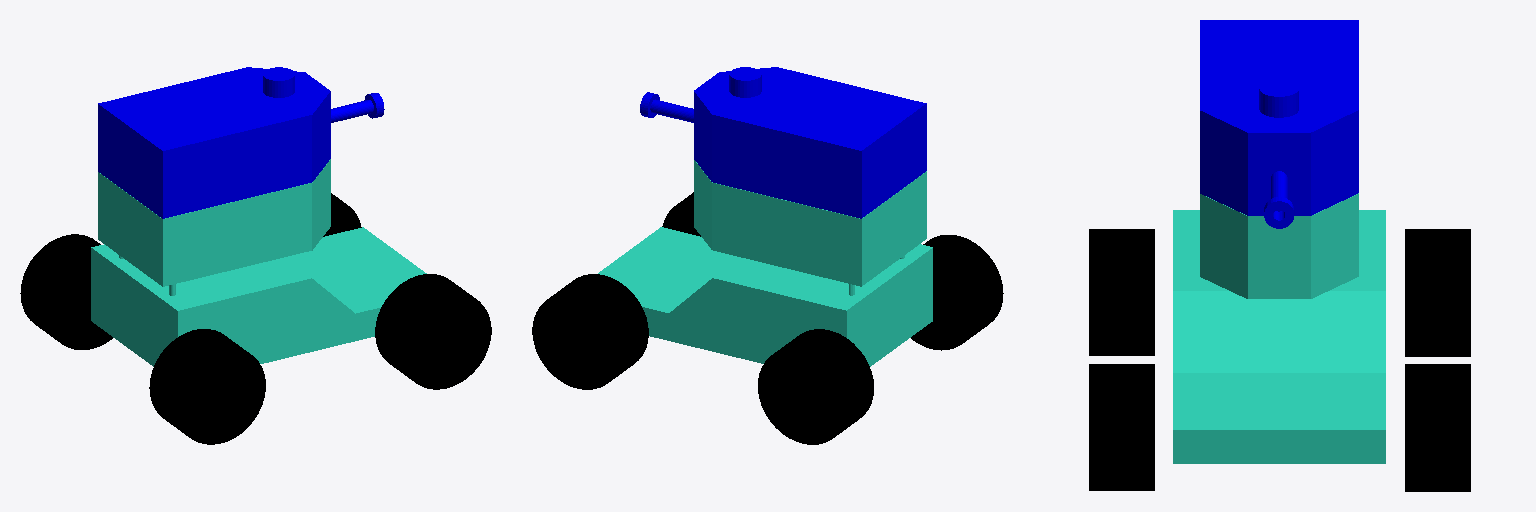
robot.urdf — abot_model:
<?xml version="1.0" encoding="utf-8"?>
<robot
  name="abot_model">
<!--*****************base_link************************-->
  <link
    name="base_link">
    <inertial>
      <origin
        xyz="0.0037371271395169 0.000509597410569076 0.0628578663830573"
        rpy="0 0 0" />
      <mass
        value="0.734774769093734" />
      <inertia
        ixx="0.00304079703267396"
        ixy="6.73701058783062E-08"
        ixz="-6.50029706905171E-08"
        iyy="0.0044781909611876"
        iyz="-1.06452904751068E-07"
        izz="0.00669492338035859" />
    </inertial>
    <visual>
      <origin
        xyz="0 0 0"
        rpy="0 0 0" />
      <geometry>
        <mesh
          filename="package://abot_model/meshes/base_link.STL" />
      </geometry>
      <material
        name="">
        <color
           rgba=" 0.22352 0.89019 0.77647 1" />
      </material>
    </visual>
    <collision>
      <origin
        xyz="0 0 0"
        rpy="0 0 0" />
      <geometry>
        <mesh
          filename="package://abot_model/meshes/base_link.STL" />
      </geometry>
    </collision>
  </link>

<gazebo reference="base_link">
    <material>Gazebo/Blue</material>
</gazebo>
<!--***************link_left_w**************************-->
  <link
    name="link_left_w">
    <inertial>
      <origin
        xyz="-2.9684E-05 0.011721 -0.000134"
        rpy="0 0 0" />
      <mass
        value="0.17861" />
      <inertia
        ixx="0.00013111"
        ixy="1.88E-20"
        ixz="-2.588E-10"
        iyy="0.00019458"
        iyz="7.7371E-21"
        izz="0.00013112" />
    </inertial>
    <visual>
      <origin
        xyz="0 0 0"
        rpy="0 0 0" />
      <geometry>
        <mesh
          filename="package://abot_model/meshes/link_left_w.STL" />
      </geometry>
      <material
        name="">
        <color rgba="0 0 0 0.95"/>
      </material>
    </visual>
    <collision>
      <origin
        xyz="0 0 0"
        rpy="0 0 0" />
      <geometry>
        <mesh
          filename="package://abot_model/meshes/link_left_w.STL" />
      </geometry>
    </collision>
  </link>
<gazebo reference="link_left_w">
    <material>Gazebo/Grey</material>
</gazebo>
<!--***************joint_left_w*************************-->
  <joint
    name="joint_left_w"
    type="continuous">
    <origin
      xyz="0.12024 0.10802 0.028264"
      rpy="0 0 0" />
    <parent
      link="base_link" />
    <child
      link="link_left_w" />
    <axis
      xyz="0 1 0" />
    <limit
      lower="-3.14"
      upper="3.14"
      effort="100"
      velocity="0" />
    <safety_controller
      k_velocity="0" />
  </joint>
<!--*****************link_left_s************************-->
  <link
    name="link_left_s">
    <inertial>
      <origin
        xyz="0.00125052664950205 0.00847211983876833 -0.000229470863907809"
        rpy="0 0 0" />
      <mass
        value="0.178614693254775" />
      <inertia
        ixx="0.00013111186774341"
        ixy="2.1852675113639E-21"
        ixz="-2.58804125525198E-10"
        iyy="0.000194584383981263"
        iyz="7.23887751890145E-21"
        izz="0.000131123764185488" />
    </inertial>
    <visual>
      <origin
        xyz="0 0 0"
        rpy="0 0 0" />
      <geometry>
        <mesh
          filename="package://abot_model/meshes/link_left_s.STL" />
      </geometry>
      <material
        name="">
        <color rgba="0 0 0 0.95"/>
      </material>
    </visual>
    <collision>
      <origin
        xyz="0 0 0"
        rpy="0 0 0" />
      <geometry>
        <mesh
          filename="package://abot_model/meshes/link_left_s.STL" />
      </geometry>
    </collision>
  </link>
<gazebo reference="link_left_s">
    <material>Gazebo/Grey</material>
</gazebo>
<!--*****************joint_left_s************************-->
  <joint
    name="joint_left_s"
    type="continuous">
    <origin
      xyz="-0.12144 0.11128 0.028375"
      rpy="0 0 0" />
    <parent
      link="base_link" />
    <child
      link="link_left_s" />
    <axis
      xyz="0 1 0" />
    <limit
      lower="-3.14"
      upper="3.14"
      effort="100"
      velocity="0" />
    <safety_controller
      k_velocity="0" />
  </joint>
<!--****************link_right_w*************************-->
  <link
    name="link_right_w">
    <inertial>
      <origin
        xyz="-2.56394994314069E-05 -0.00965975962140743 -8.89294989246357E-05"
        rpy="0 0 0" />
      <mass
        value="0.178614693254775" />
      <inertia
        ixx="0.000131111867743409"
        ixy="-1.43666298330474E-21"
        ixz="-2.58804125525959E-10"
        iyy="0.000194584383981263"
        iyz="1.54361367158865E-21"
        izz="0.000131123764185487" />
    </inertial>
    <visual>
      <origin
        xyz="0 0 0"
        rpy="0 0 0" />
      <geometry>
        <mesh
          filename="package://abot_model/meshes/link_right_w.STL" />
      </geometry>
      <material
        name="">
        <color rgba="0 0 0 0.95"/>
      </material>
    </visual>
    <collision>
      <origin
        xyz="0 0 0"
        rpy="0 0 0" />
      <geometry>
        <mesh
          filename="package://abot_model/meshes/link_right_w.STL" />
      </geometry>
    </collision>
  </link>
<gazebo reference="link_right_w">
    <material>Gazebo/Grey</material>
</gazebo>
<!--******************joint_right_w***********************-->
  <joint
    name="joint_right_w"
    type="continuous">
    <origin
      xyz="0.12024 -0.10899 0.028264"
      rpy="0 0 0" />
    <parent
      link="base_link" />
    <child
      link="link_right_w" />
    <axis
      xyz="0 1 0" />
    <limit
      lower="-3.14"
      upper="3.14"
      effort="100"
      velocity="0" />
    <safety_controller
      k_velocity="0" />
  </joint>
<!--******************link_right_s***********************-->
  <link
    name="link_right_s">
    <inertial>
      <origin
        xyz="-1.7496E-07 -0.011748 8.117E-06"
        rpy="0 0 0" />
      <mass
        value="0.17861" />
      <inertia
        ixx="0.00013111"
        ixy="5.8527E-21"
        ixz="-2.588E-10"
        iyy="0.00019458"
        iyz="-3.2413E-21"
        izz="0.00013112" />
    </inertial>
    <visual>
      <origin
        xyz="0 0 0"
        rpy="0 0 0" />
      <geometry>
        <mesh
          filename="package://abot_model/meshes/link_right_s.STL" />
      </geometry>
      <material
        name="">
       <color rgba="0 0 0 0.95"/>
      </material>
    </visual>
    <collision>
      <origin
        xyz="0 0 0"
        rpy="0 0 0" />
      <geometry>
        <mesh
          filename="package://abot_model/meshes/link_right_s.STL" />
      </geometry>
    </collision>
  </link>
<gazebo reference="link_right_s">
    <material>Gazebo/Grey</material>
</gazebo>
<!--******************joint_right_s***********************-->
  <joint
    name="joint_right_s"
    type="continuous">
    <origin
      xyz="-0.12024 -0.10696 0.028161"
      rpy="0 0 0" />
    <parent
      link="base_link" />
    <child
      link="link_right_s" />
    <axis
      xyz="0 1 0" />
    <limit
      lower="-3.14"
      upper="3.14"
      effort="100"
      velocity="0" />
    <safety_controller
      k_velocity="0" />
  </joint>
<!-- **************** shout_link **************** -->
<link name="shout_link">
    <inertial>
        <origin xyz="0 0 0" rpy="0 0 0"/>
        <mass value="0.1"/>   <!-- 请根据实际零件质量修改 -->
        <inertia ixx="0.001" ixy="0" ixz="0" iyy="0.001" iyz="0" izz="0.001"/> <!-- 示例值，需精确计算 -->
    </inertial>
    <visual>
        <origin xyz="0 0 0" rpy="0 0 0"/>
        <geometry>
            <mesh filename="package://abot_model/meshes/shout_link.STL"/>
        </geometry>
        <material name="">
            <color rgba="0 0 1 1"/>  <!-- 蓝色 -->
        </material>
    </visual>
    <collision>
        <origin xyz="0 0 0" rpy="0 0 0"/>
        <geometry>
            <mesh filename="package://abot_model/meshes/shout_link.STL"/>
        </geometry>
    </collision>
</link>

<!-- 固定关节：shout_link 连接到 base_link 正上方 0.158 m 处 -->
<joint name="joint_shout" type="fixed">
    <parent link="base_link"/>
    <child link="shout_link"/>
    <origin xyz="0 0 0.158" rpy="0 0 0"/>   <!-- 正上方，无旋转 -->
    <axis xyz="0 0 0"/>
</joint>

<gazebo reference="shout_link">
    <material>Gazebo/Blue</material>
</gazebo>
<!--***************camera_link**************************-->
  <link
    name="camera_link">
    <inertial>
      <origin
        xyz="0 0 0"
        rpy="0 0 0" />
      <mass
        value="0" />
      <inertia
        ixx="0"
        ixy="0"
        ixz="0"
        iyy="0"
        iyz="0"
        izz="0" />
    </inertial>
    <visual>
      <origin
        xyz="0 0 0"
        rpy="0 0 0" />
      <geometry>
        <mesh
          filename="package://abot_model/meshes/camera_link.STL" />
      </geometry>
      <material
        name="">
        <color
          rgba="1 1 1 1" />
      </material>
    </visual>
    <collision>
      <origin
        xyz="0 0 0"
        rpy="0 0 0" />
      <geometry>
        <mesh
          filename="package://abot_model/meshes/camera_link.STL" />
      </geometry>
    </collision>
  </link>
<gazebo reference="camera_link">
    <material>Gazebo/Grey</material>
</gazebo>
<!--****************joint_camera*************************-->
  <joint
    name="joint_camera"
    type="fixed">
    <origin
      xyz="0.130670132360421 0.000184007776624636 0.128393640072318"
      rpy="0 0 0" />
    <parent
      link="base_link" />
    <child
      link="camera_link" />
    <axis
      xyz="0 0 0" />
    <safety_controller
      k_velocity="0" />
  </joint>

<!--****************************laser_link**************************************-->
<link name="laser_link">
	<visual>
	  <origin xyz="0 0 0" rpy="0 0 0"/>
	  <geometry>
		<cylinder radius="0.04" length="0.040"/>
 	  </geometry>
	  <material name="black">
	  	<color rgba="0 0 0 0.95"/> 
	  </material>
	</visual>	
</link>
<gazebo reference="laser_link">
    <material>Gazebo/Black</material>
</gazebo>
<!--****************************laser_joint**************************************-->
	<joint name="laser_joint" type="fixed">
		<origin xyz="0 0 0.18" rpy="0 0 0"/>	
		<parent link="base_link"/>
		<child link="laser_link"/>
	</joint>
<!--*********************************base_footprint********************************** -->
	<link name="base_footprint">
	    <visual>
		<origin xyz="0 0 0" rpy="0 0 0" />
		<geometry>
		    <box size="0.001 0.001 0.001" />
		</geometry>
	    </visual>
	</link>
<!--*********************************base_footprint_joint********************************** -->
	<joint name="base_footprint_joint" type="fixed">
	    <origin xyz="0 0 0" rpy="0 0 0" />        
	    <parent link="base_footprint"/>
	    <child link="base_link" />
	</joint>
	<gazebo reference="base_footprint_joint">
	    <turnGravityOff>false</turnGravityOff>
	</gazebo>
<!--*********************************base_imu********************************** -->
	<link name="base_imu">
	    <visual>
		<origin xyz="0.001 0 0" rpy="0 0 0" />
		<geometry>
		    <box size="0.001 0.001 0.001" />
		</geometry>
	    </visual>
	</link>
<!--*********************************imu_joint********************************** -->
	<joint name="imu_joint" type="fixed">
	    <origin xyz="0 0 0" rpy="0 0 0" />        
	    <parent link="base_link"/>
	    <child link="base_imu" />
	</joint>
	<gazebo reference="imu_joint">
	    <turnGravityOff>false</turnGravityOff>
	</gazebo>
<!--****************************laser_joint**************************************-->
<gazebo reference="laser_link">
    <sensor type="ray" name="rplidar">
      <pose>0 0 0 0 0 0</pose>
      <visualize>true</visualize>
      <update_rate>5.5</update_rate>
      <ray>
        <scan>
          <horizontal>
            <samples>360</samples>
            <resolution>1</resolution>
            <min_angle>-3.14</min_angle>
            <max_angle>3.14</max_angle>
          </horizontal>
        </scan>
        <range>
          <min>0.10</min>
          <max>12.0</max>
          <resolution>0.01</resolution>
        </range>
        <noise>
          <type>gaussian</type>
          <mean>0.0</mean>
          <stddev>0.01</stddev>
        </noise>
      </ray>
      <plugin name="gazebo_rplidar" filename=
"libgazebo_ros_laser.so">
        <topicName>/scan</topicName>
        <frameName>laser_link</frameName>
      </plugin>
    </sensor>
  </gazebo>
<!--********************************* camera gazebo**********************************-->
      <gazebo reference="camera_link">
        <sensor type="camera" name="camera1">
          <update_rate>100</update_rate>
          <camera name="head">
            <horizontal_fov>1.3962634</horizontal_fov>
            <image>
              <width>800</width>
              <height>800</height>
              <format>R8G8B8</format>
            </image>
            <clip>
              <near>0.02</near>
              <far>300</far>
            </clip>
            <noise>
              <type>gaussian</type>
              <mean>0.0</mean>
              <stddev>0.007</stddev>
            </noise>
          </camera>
          <plugin name="camera_controller" filename="libgazebo_ros_camera.so">
           <alwaysOn>true</alwaysOn>
            <updateRate>0.0</updateRate>
            <cameraName>camera</cameraName>
            <imageTopicName>image</imageTopicName>
            <cameraInfoTopicName>camera_info</cameraInfoTopicName>
            <frameName>camera_link</frameName>
            <hackBaseline>0.07</hackBaseline>
            <distortionK1>0.0</distortionK1>
            <distortionK2>0.0</distortionK2>
            <distortionK3>0.0</distortionK3>
            <distortionT1>0.0</distortionT1>
            <distortionT2>0.0</distortionT2>
          </plugin>
        </sensor>
      </gazebo>

 <gazebo>
  <plugin name="skid_steer_drive_controller" filename="libgazebo_ros_skid_steer_drive.so">

    <alwaysOn>true</alwaysOn>
    <robotNamespace>/</robotNamespace>
    <updateRate>100</updateRate>
    <leftFrontJoint>joint_left_w</leftFrontJoint>
    <rightFrontJoint>joint_right_w</rightFrontJoint>
    <leftRearJoint>joint_left_s</leftRearJoint>
    <rightRearJoint>joint_right_s</rightRearJoint>
    <odometryRate>100</odometryRate>
    <wheelSeparation>0.090</wheelSeparation> 
    <wheelDiameter>0.090</wheelDiameter>
    <torque>1</torque>
    <commandTopic>cmd_vel</commandTopic>
    <odometryTopic>odom</odometryTopic>
    <odometryFrame>odom</odometryFrame>
    <robotBaseFrame>base_footprint</robotBaseFrame>
    <broadcastTF>1</broadcastTF> 

  </plugin>
</gazebo>
</robot>

--- Render facts (derived) ---
3 views of the same robot in one strip: view 1: azimuth 30°, elevation 25°; view 2: azimuth 150°, elevation 25°; view 3: azimuth 270°, elevation 25° (orthographic).
Robot: abot_model — 10 links, 9 joints (4 continuous, 5 fixed); root link base_footprint; default pose: all joints at 0.
Links seen in each view (by area): view 1: base_link, shout_link, link_right_s, link_right_w, link_left_s, link_left_w; view 2: base_link, shout_link, link_left_w, link_left_s, link_right_s, link_right_w; view 3: base_link, shout_link, link_left_w, link_left_s, link_right_w, link_right_s.
Boxes of the visible links, bbox=[...] form: base_link: bbox=[91, 159, 426, 366]; shout_link: bbox=[98, 67, 384, 218]; link_right_s: bbox=[149, 329, 265, 444]; link_right_w: bbox=[375, 274, 491, 389]; link_left_s: bbox=[20, 234, 112, 349]; link_left_w: bbox=[323, 193, 361, 236]; base_link: bbox=[598, 160, 932, 366]; shout_link: bbox=[640, 67, 926, 218]; link_left_w: bbox=[532, 274, 648, 389]; link_left_s: bbox=[758, 329, 873, 444]; link_right_s: bbox=[911, 235, 1003, 350]; link_right_w: bbox=[662, 192, 700, 236]; base_link: bbox=[1173, 193, 1385, 463]; shout_link: bbox=[1200, 20, 1358, 228]; link_left_w: bbox=[1405, 364, 1470, 491]; link_left_s: bbox=[1405, 229, 1470, 356]; link_right_w: bbox=[1089, 364, 1154, 490]; link_right_s: bbox=[1089, 229, 1154, 355].
Bounding box of the posed robot: 0.336 × 0.2878 × 0.2847 m (x, y, z).
6 mesh visuals loaded from 7 distinct referenced files (6 binary STL); not drawn: 1 (reference not matched to a file when rendering).
